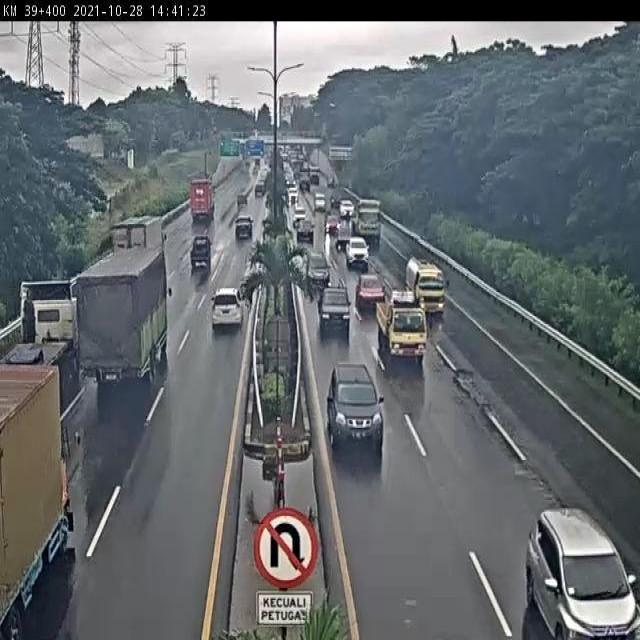big truck: (0, 279, 79, 408)
car: (525, 506, 640, 640), (324, 361, 384, 455), (318, 286, 351, 334), (210, 287, 245, 328), (355, 275, 386, 313), (305, 249, 330, 287), (189, 235, 213, 269), (345, 237, 369, 267)
mid truck: (74, 248, 171, 385), (110, 216, 169, 273)
truck-m-: (375, 287, 428, 364), (405, 254, 446, 314)
